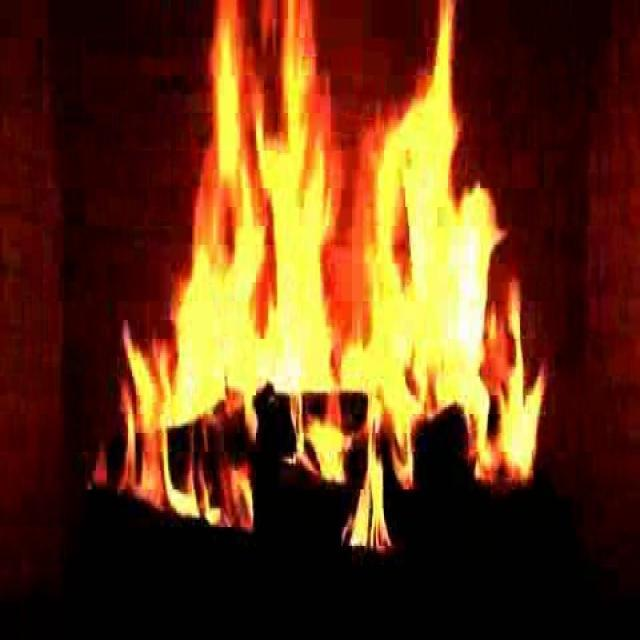Fire: (100, 14, 560, 514)
